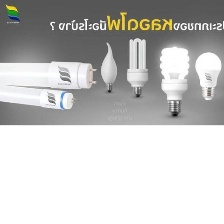light_bulb: (0, 58, 99, 90), (155, 43, 192, 119), (0, 83, 77, 113), (125, 36, 150, 99), (194, 50, 223, 101), (97, 41, 120, 95)
